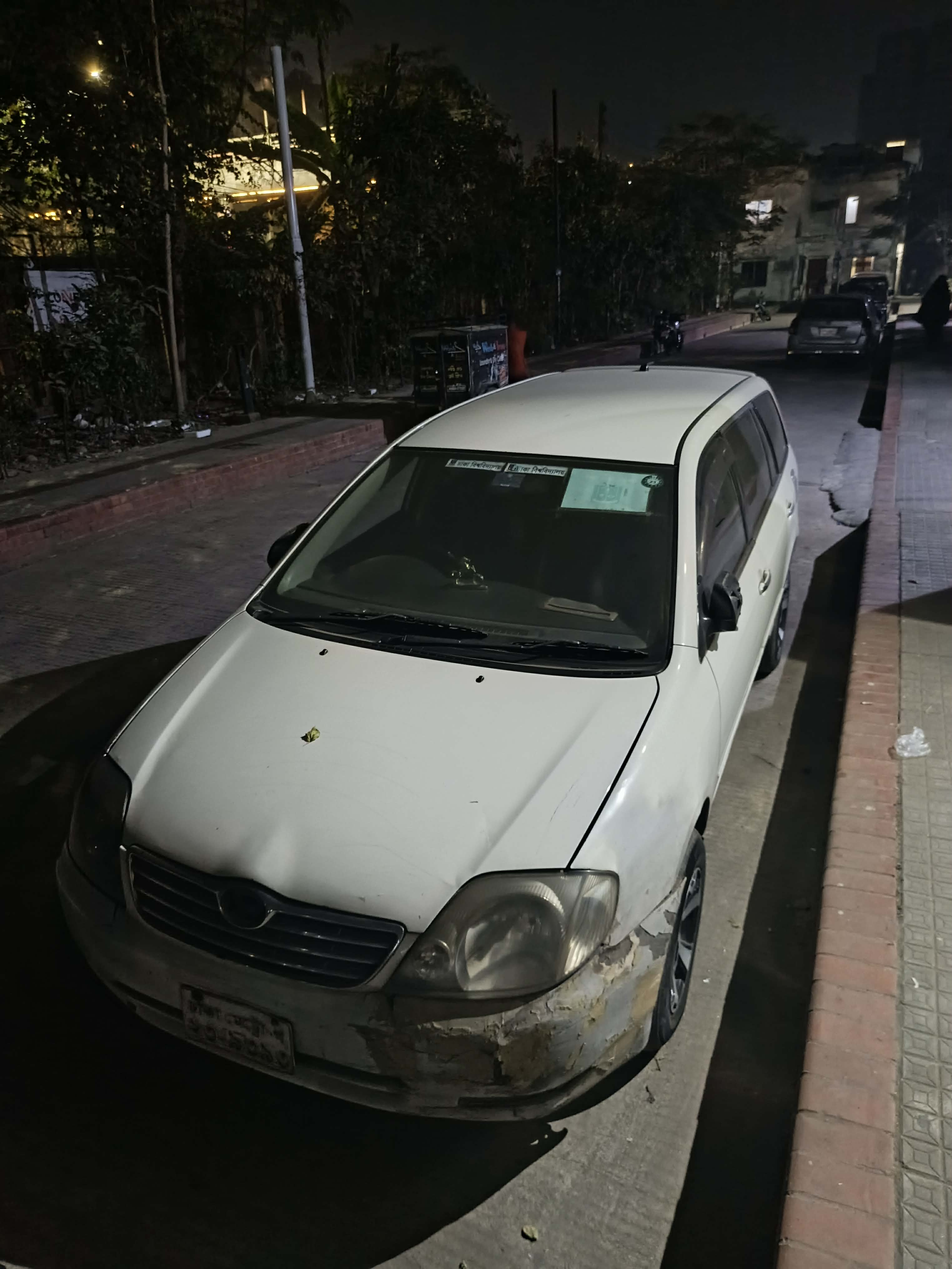private car: (87, 304, 902, 1174), (789, 268, 910, 354)
